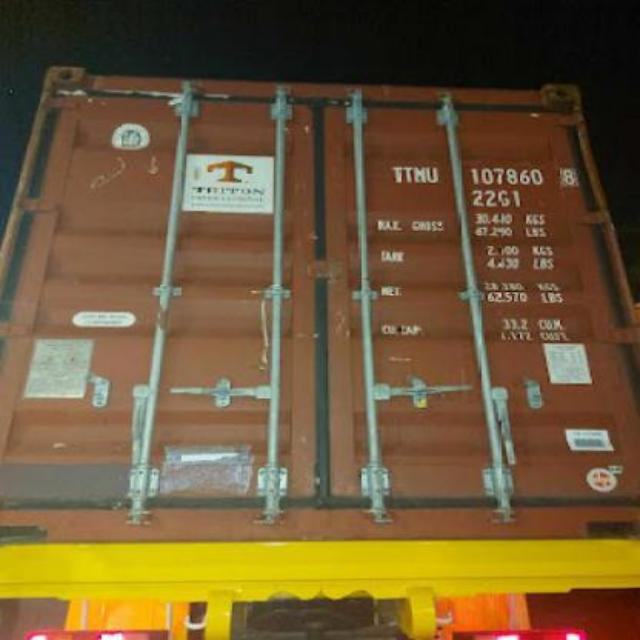0: (482, 167, 494, 183), (532, 169, 544, 185)
1: (470, 167, 482, 185)
6: (518, 169, 530, 185)
7: (494, 169, 508, 185)
8: (506, 169, 518, 185), (564, 170, 574, 186)
N: (414, 166, 424, 184)
T: (392, 167, 404, 183), (404, 169, 414, 185)
U: (426, 166, 439, 182)
